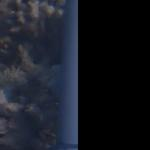dead: (1, 1, 76, 147)
